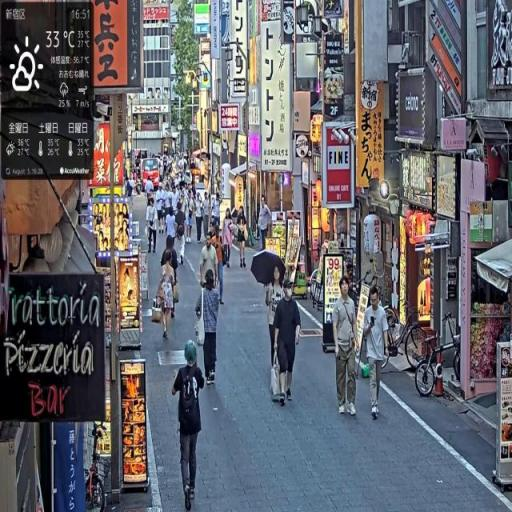person: (171, 341, 206, 512), (360, 284, 391, 421), (273, 278, 304, 405), (333, 277, 360, 419), (195, 270, 222, 388), (265, 263, 287, 389), (158, 245, 179, 343), (257, 196, 273, 257), (147, 195, 160, 257)
